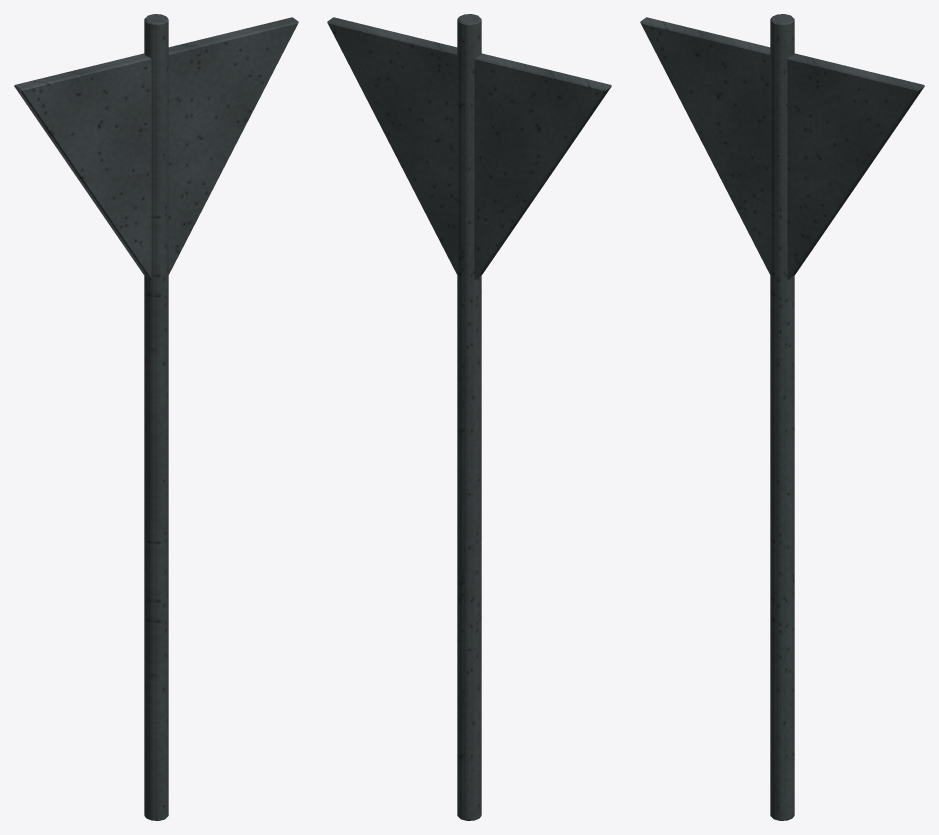
File: PROP-A0EEC9A844C4_lod1.glb
The picture shows the model from 3 angles, left to right: view 1: azimuth 30°, elevation 25°; view 2: azimuth 150°, elevation 25°; view 3: azimuth 330°, elevation 25°; orthographic projection.
Visible parts, largest first — view 1: shaped_sign_plate.012, sign_post.034; view 2: shaped_sign_plate.012, sign_post.034; view 3: shaped_sign_plate.012, sign_post.034.
Boxes of the visible parts, x1,y1,x2,y2 form: shaped_sign_plate.012: [14, 17, 298, 279]; sign_post.034: [144, 14, 168, 820]; shaped_sign_plate.012: [327, 17, 611, 279]; sign_post.034: [457, 14, 481, 820]; shaped_sign_plate.012: [640, 17, 924, 279]; sign_post.034: [770, 14, 794, 820].
Bounding box in the file's own units: 0.8965 × 2.45 × 0.0666.
1 material, 1 textured.
